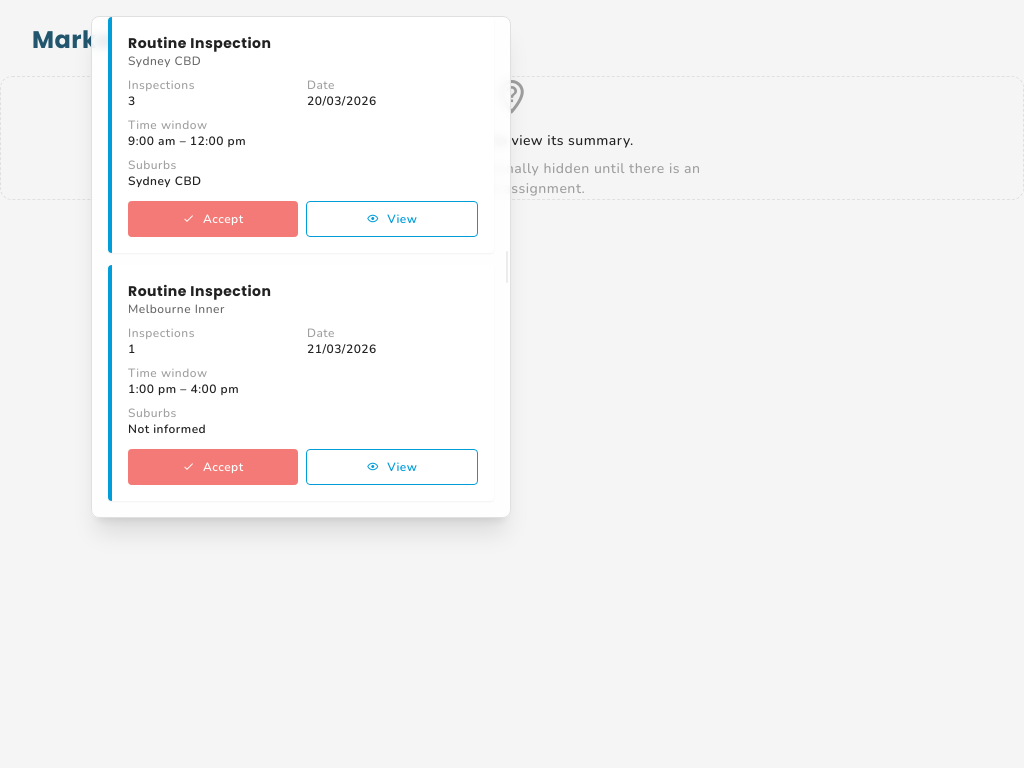
Test case: MarketplacePage › closes the confirm dialog on Escape without accepting (#454)
The width and height of the screenshot is (1024, 768).
Expected: the button with test id "offer-card" that starts with "Routine Inspection" is shown, top-left (108, 17), bottom-right (494, 253)
Click the 1st button "Accept" at (213, 219), box top-left (128, 201), bottom-right (298, 237)
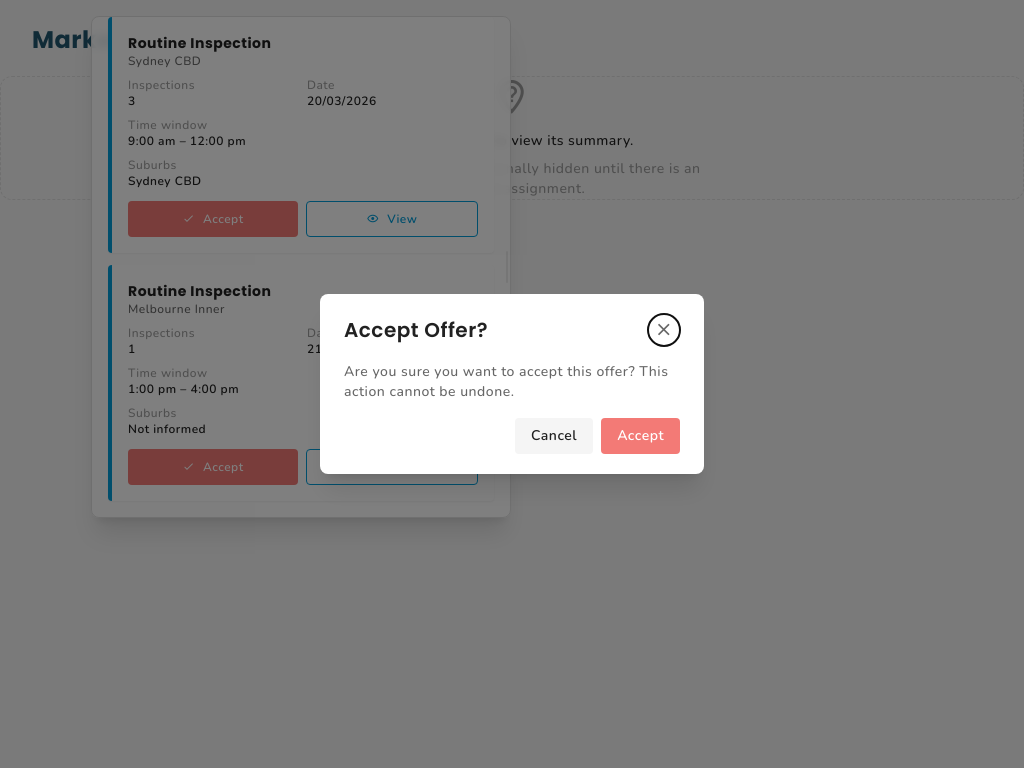
Expected: the dialog "Accept Offer?" is shown
# Dialog closes on Escape (document listener) and no accept request fires.
Press Escape
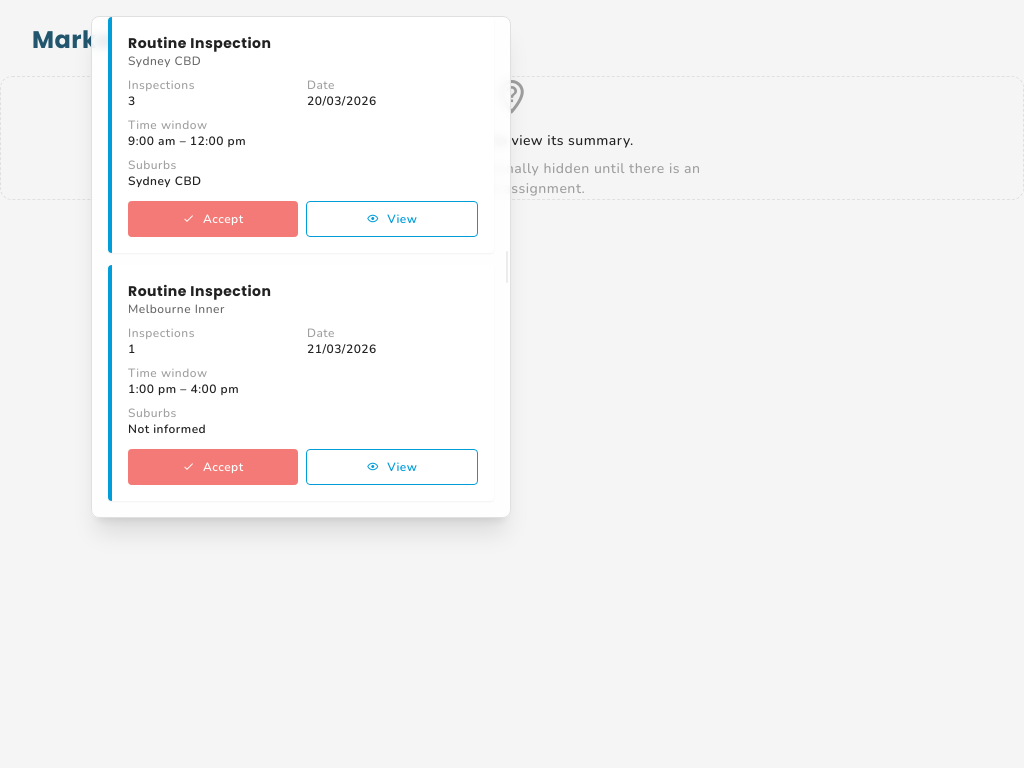
Expected: the dialog is gone
